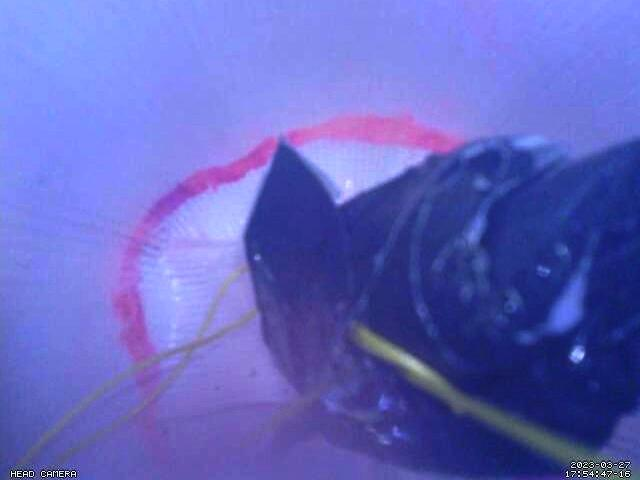head: (110, 112, 464, 480)
